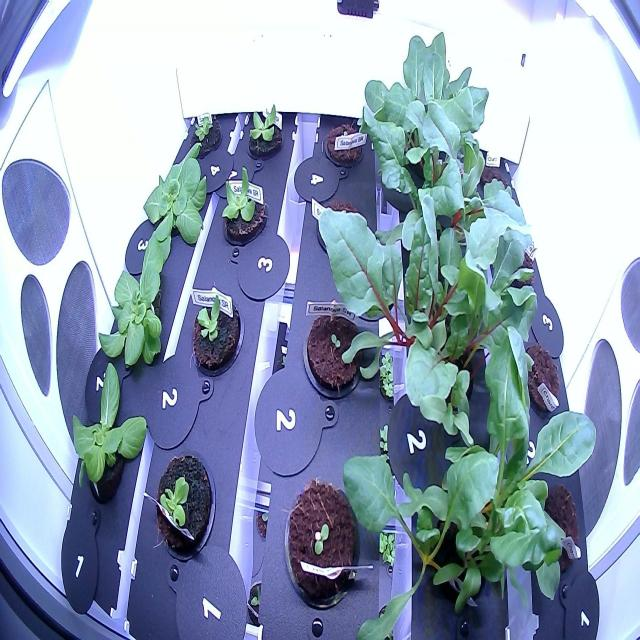germination: (270, 470, 375, 615), (298, 297, 370, 404)
pod: (520, 472, 588, 594), (516, 329, 568, 422), (318, 115, 366, 177), (474, 150, 512, 202)
young: (64, 355, 158, 508), (93, 226, 174, 386), (149, 434, 228, 574), (128, 136, 214, 254), (183, 276, 248, 385), (214, 157, 273, 254), (233, 95, 288, 175), (182, 103, 232, 164)
